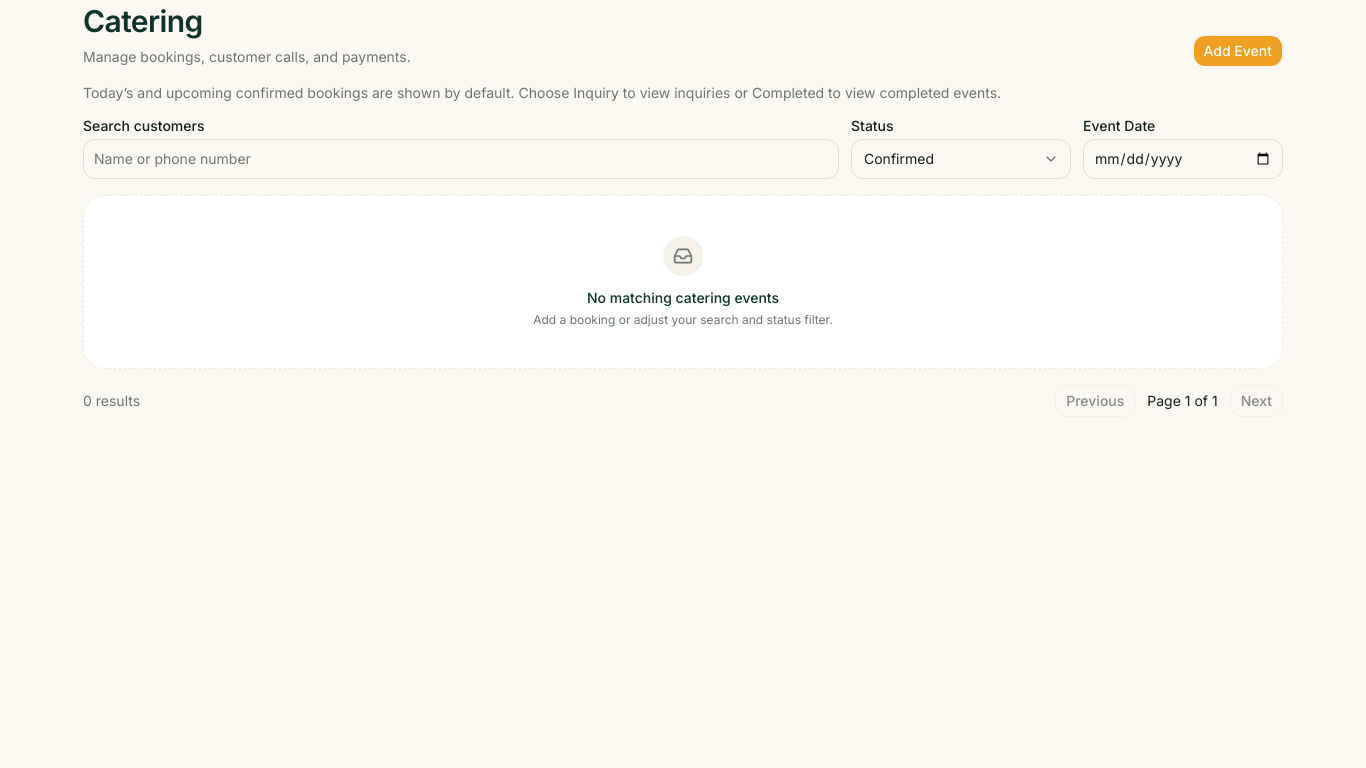
Test case: a saved employee booking becomes visible even when the page was filtered to Confirmed
Click the button "Add Event" at (1238, 50), box [1192,34,1283,66]
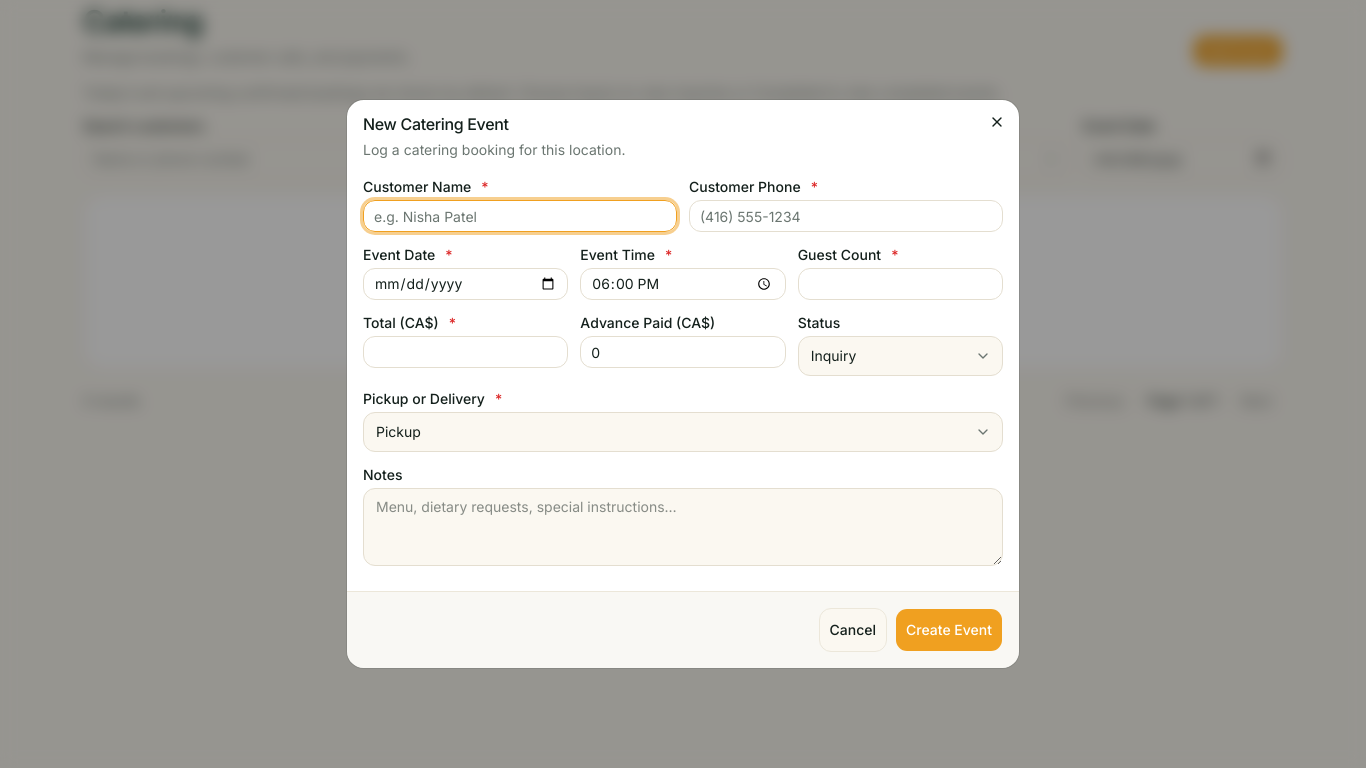
Type "Test Customer" into the field labelled "Customer Name *" at (520, 216), box [363,200,677,232]
Type "4165550100" into the field labelled "Customer Phone *" at (846, 216), box [689,200,1003,232]
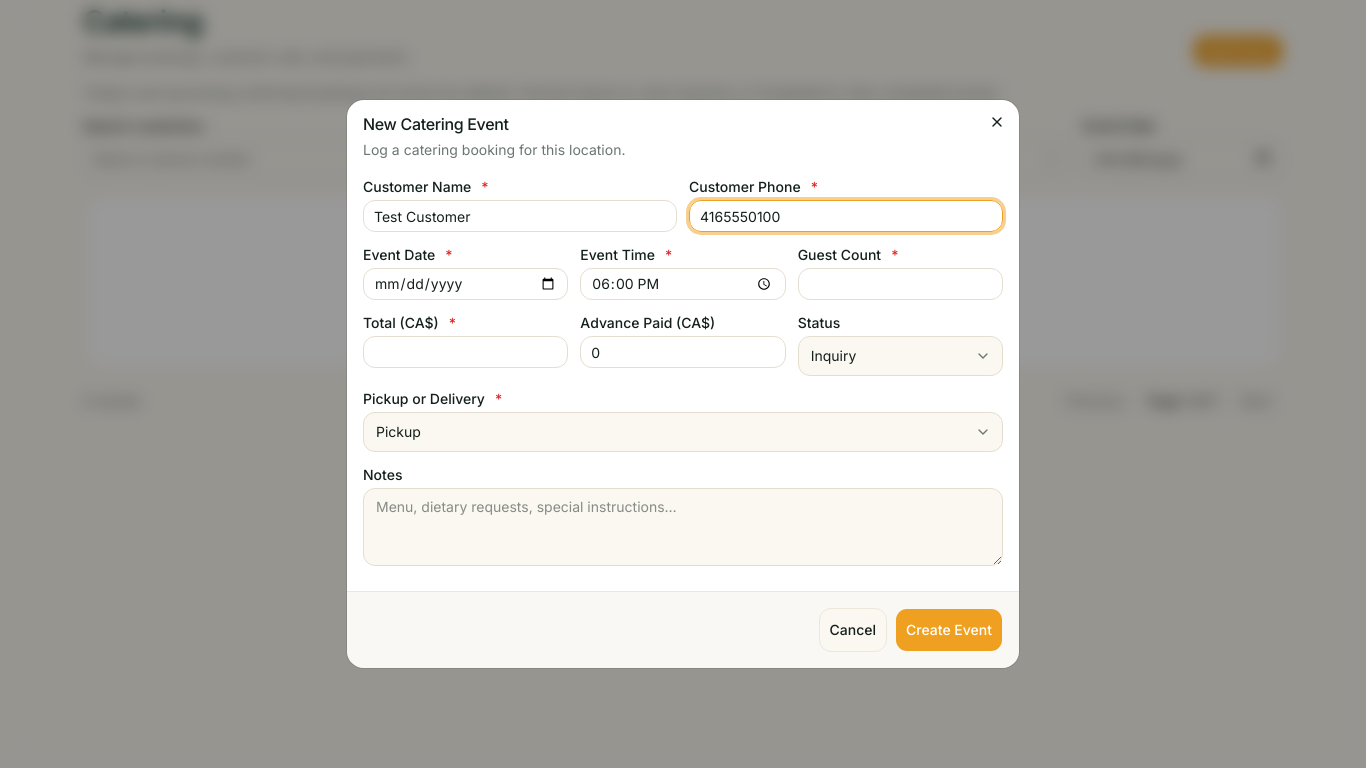
Type "2020-11-01" into the date field labelled "Event Date *" at (466, 284), box [363,268,568,300]
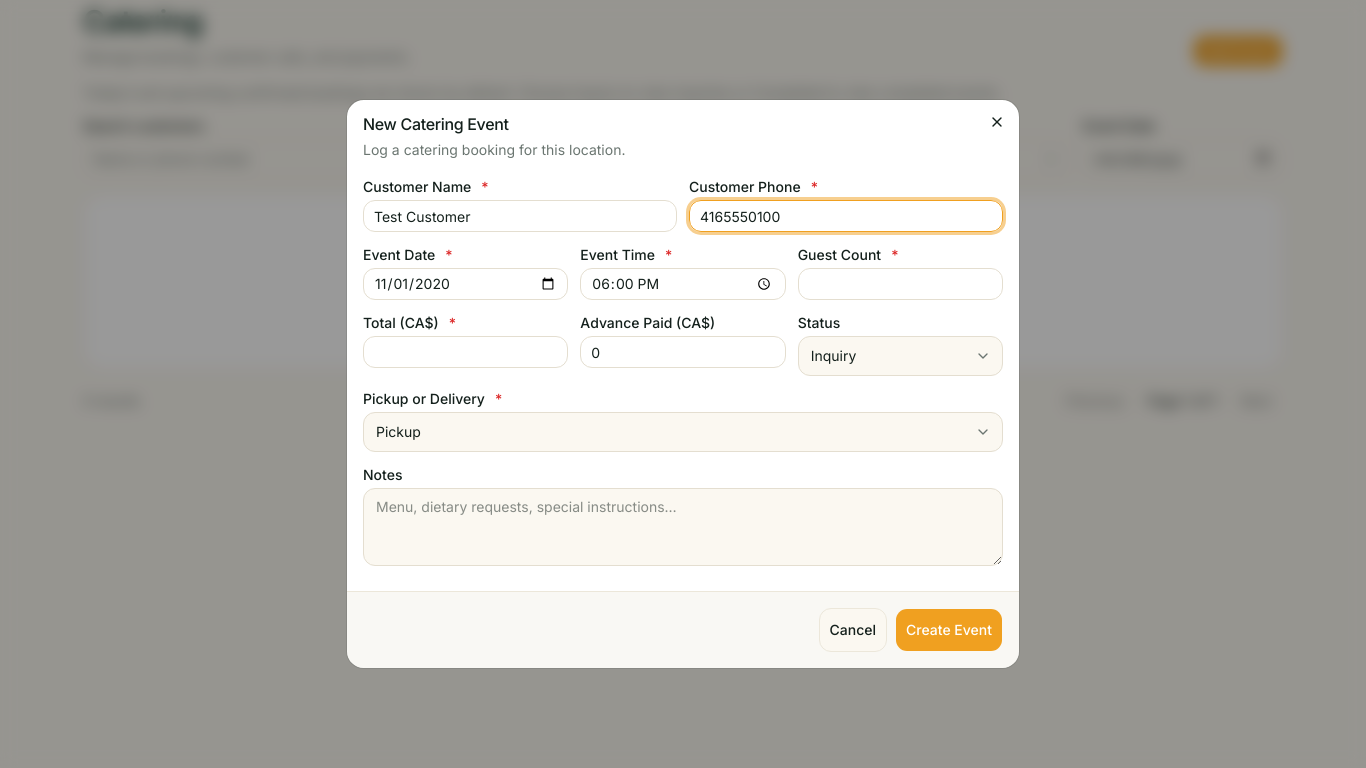
Type "20" into the number field labelled "Guest Count *" at (900, 284), box [798,268,1003,300]
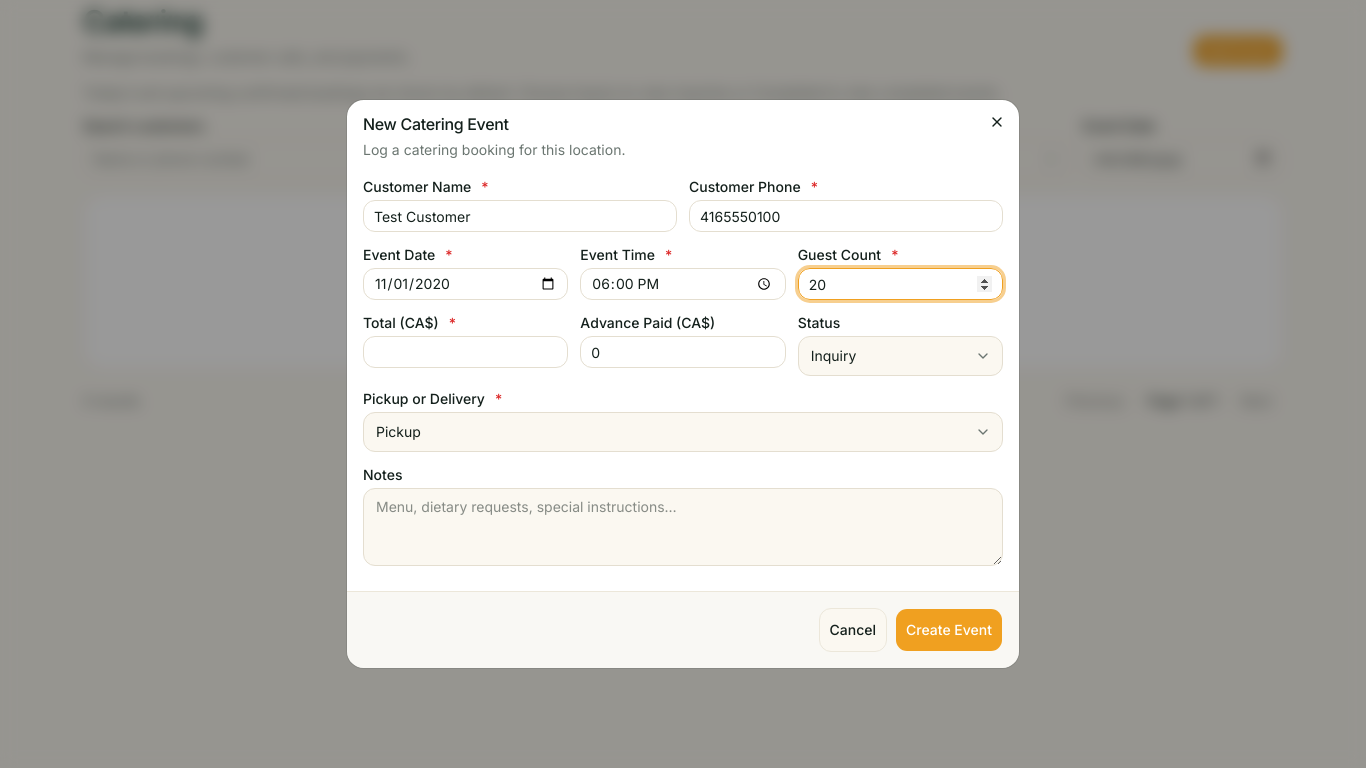
Type "100" into the number field labelled "Total (CA$) *" at (466, 352), box [363,336,568,368]
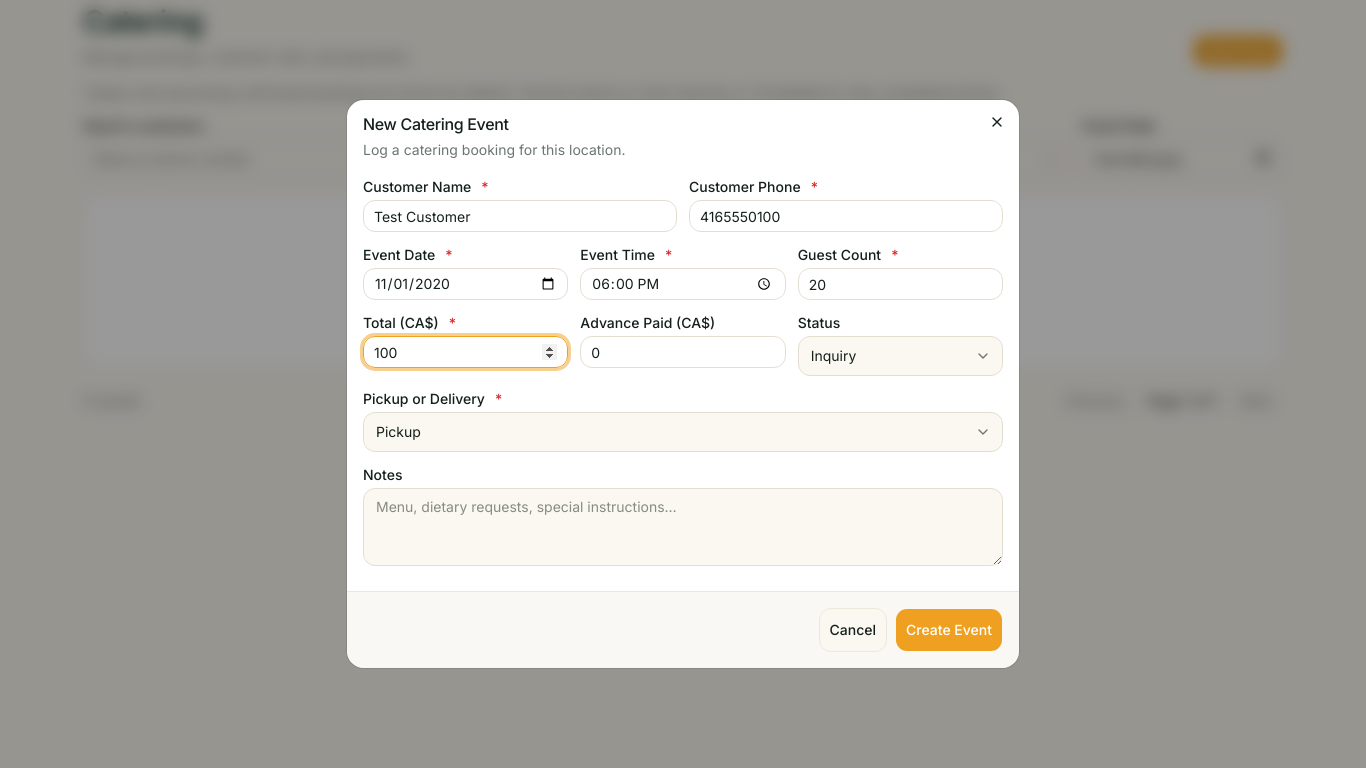
Click the button "Create Event" at (949, 630), box [895,608,1003,652]
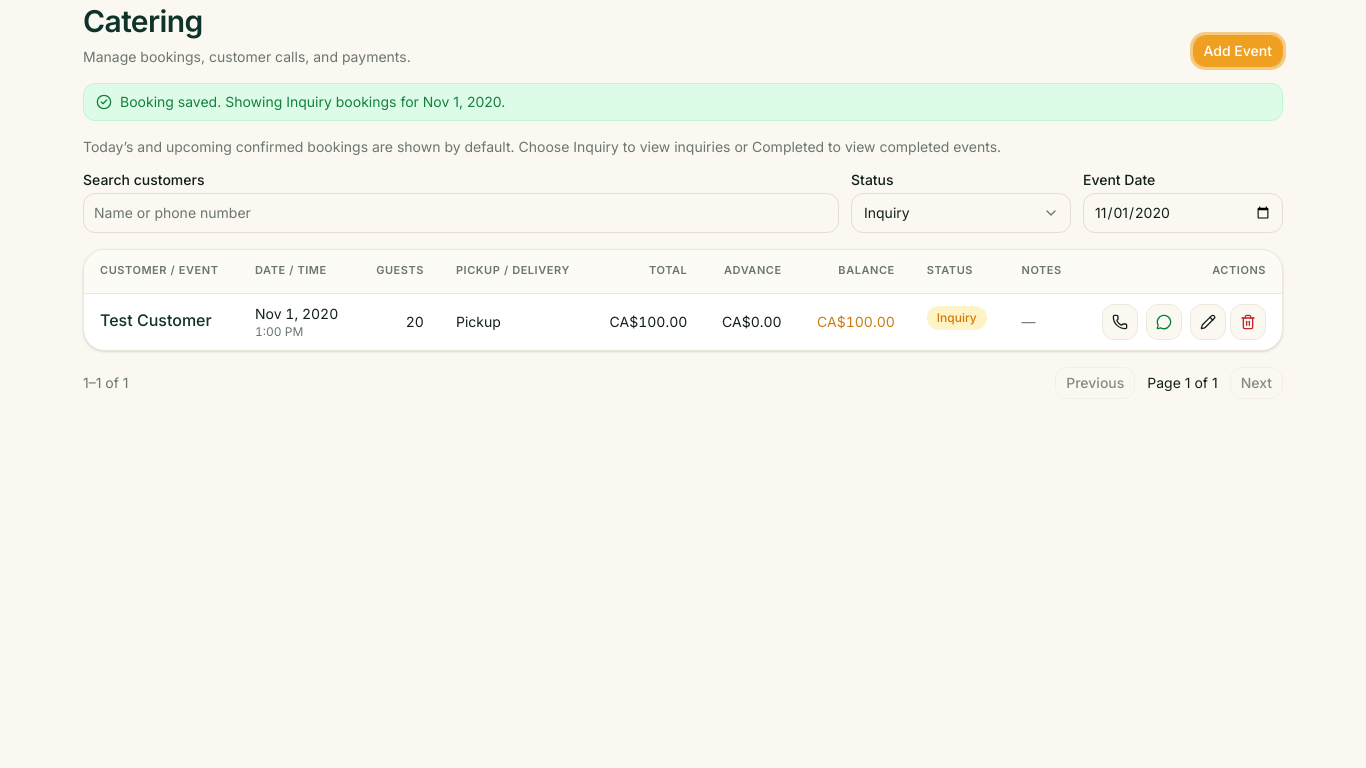
Now the dialog is gone
Now the dropdown labelled "Status" shows "Inquiry", box [851,192,1071,232]
Now the date field labelled "Event Date" holds "2020-11-01", box [1083,192,1283,232]
